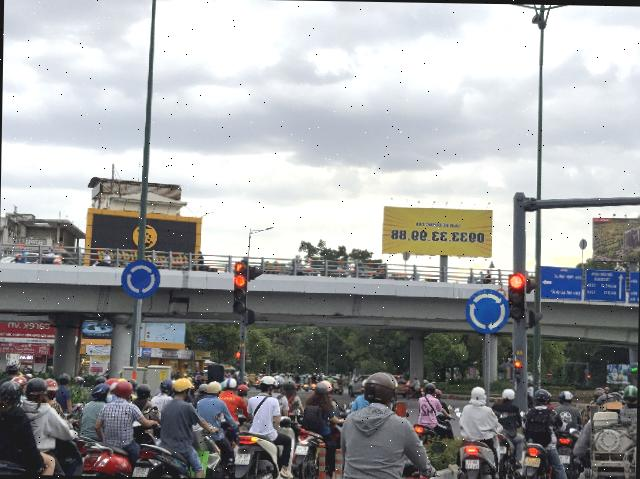noi-giao-nhau-chay-theo-vong-xuyen: (464, 287, 510, 335), (120, 258, 161, 298)
